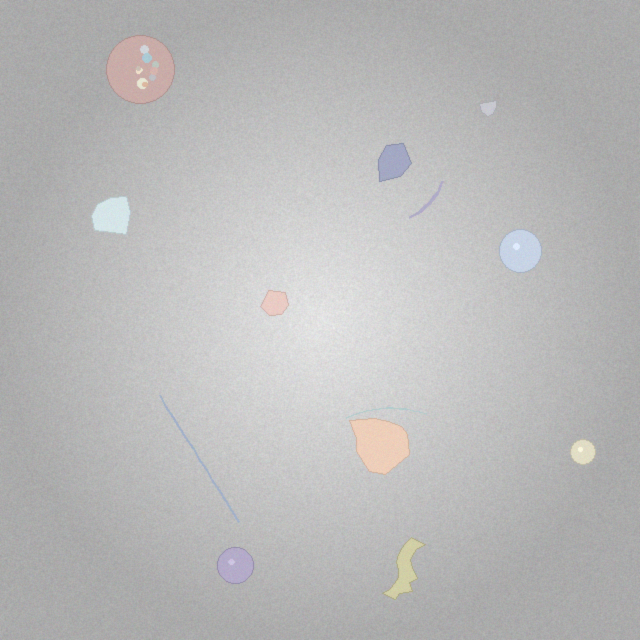fiber: (156, 393, 241, 524), (406, 178, 446, 221), (344, 406, 429, 421)
film: (383, 538, 426, 599)
foam: (107, 35, 175, 103)
fragment: (350, 419, 409, 474), (91, 197, 131, 235), (378, 144, 412, 182), (261, 291, 288, 315), (480, 101, 497, 117)
pellet: (499, 230, 542, 272), (217, 548, 253, 584), (570, 439, 596, 465)
